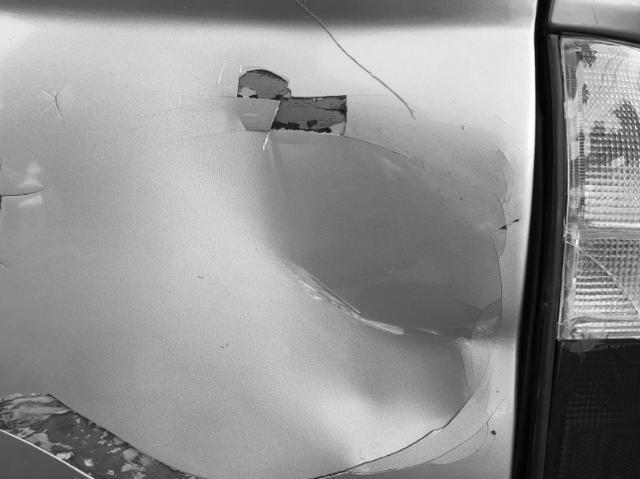Dickey: (0, 0, 542, 479)
Light: (559, 204, 640, 333)
